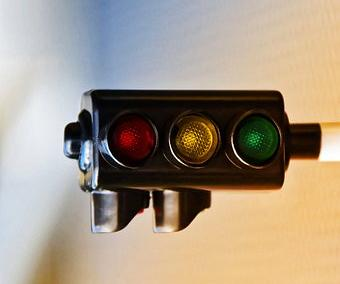trafic: (87, 92, 286, 180)
